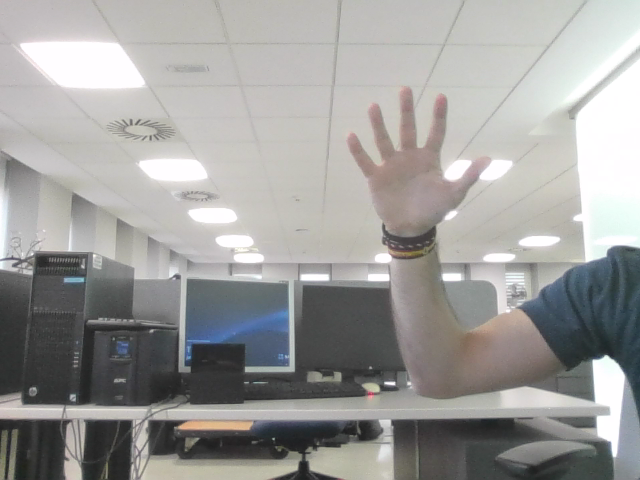Mano Abierta: (357, 99, 477, 207)
